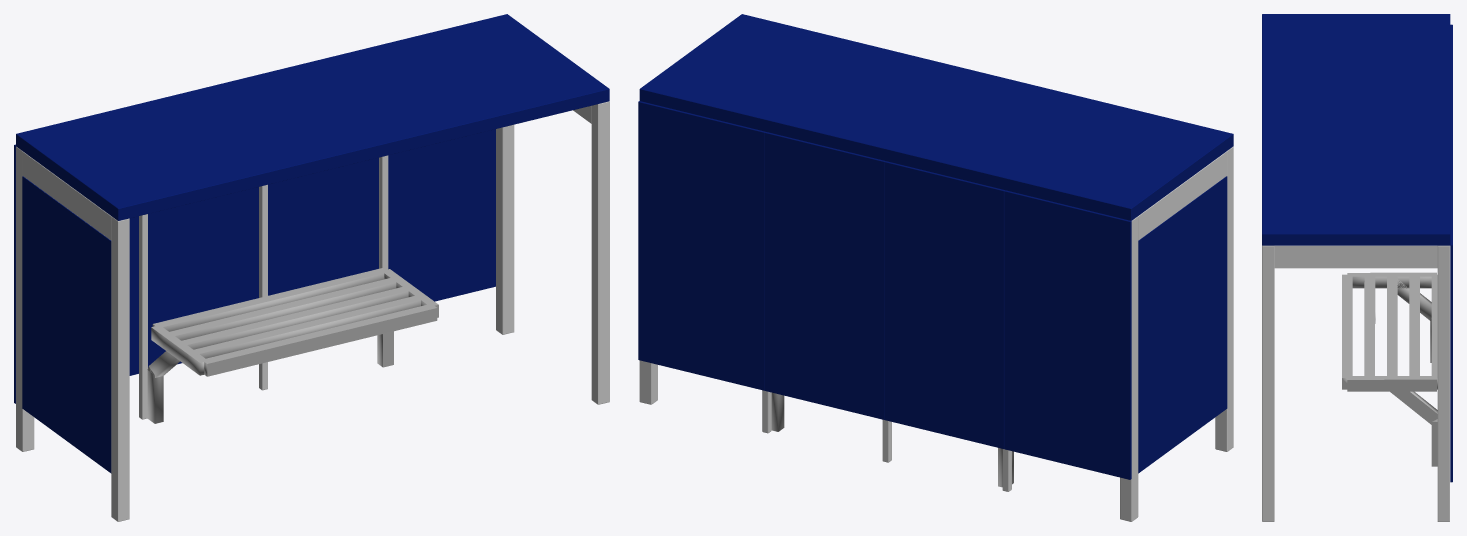
Rendered from BusStop.fbx.
The picture shows the model from 3 angles, left to right: view 1: azimuth 30°, elevation 25°; view 2: azimuth 150°, elevation 25°; view 3: azimuth 270°, elevation 25°; orthographic projection. The views are drawn at different scales.
Visible parts, largest first — view 1: Bus Stop; view 2: Bus Stop; view 3: Bus Stop.
Part boxes in pixels (x1,y1,x2,y2): Bus Stop: [14, 14, 609, 521]; Bus Stop: [638, 14, 1233, 521]; Bus Stop: [1262, 14, 1452, 521].
Size of the model in its own units: 4104 by 2498 by 1500.
